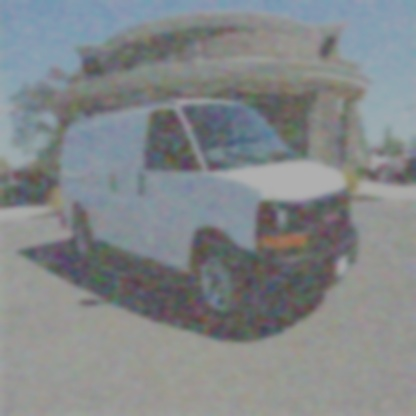Vehicle: (58, 97, 360, 326)
